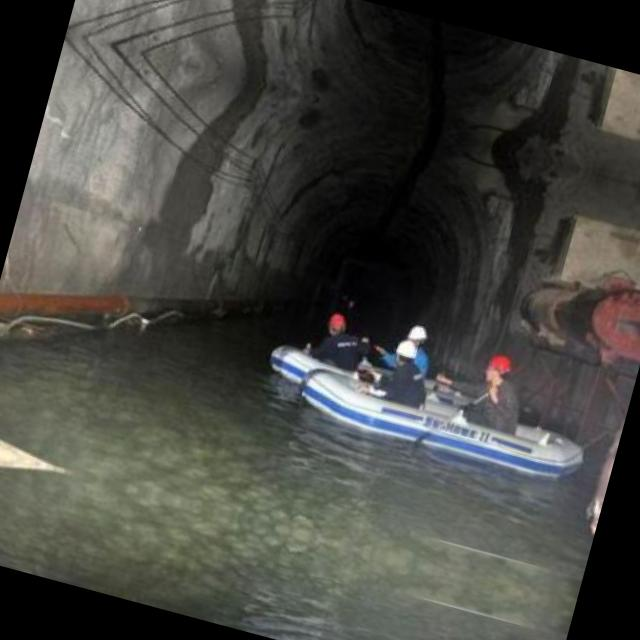helmet: (478, 345, 516, 387), (389, 336, 418, 368), (326, 308, 351, 338), (406, 322, 430, 348)
